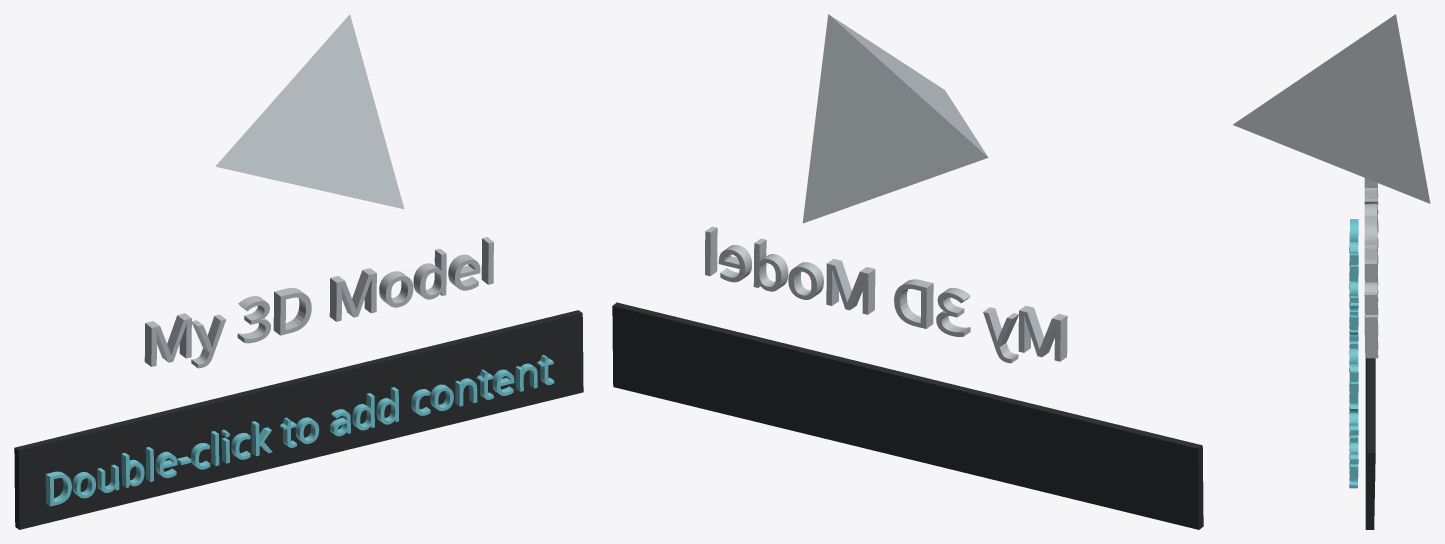
Rendered from DefaultHtml3DObject.obj.
3 renders of one model, left to right at view 1: azimuth 30°, elevation 25°; view 2: azimuth 150°, elevation 25°; view 3: azimuth 270°, elevation 25°, orthographic. The views are drawn at different scales.
Parts seen in each view (by area): view 1: group_2829873, group_12568524, group_7720667; view 2: group_2829873, group_12568524; view 3: group_12568524, group_7720667, group_2829873.
Part boxes in pixels (box(x1,y1,x2,y2)): group_2829873: box(14, 310, 583, 529); group_12568524: box(144, 14, 493, 368); group_7720667: box(45, 355, 554, 506); group_2829873: box(612, 302, 1203, 529); group_12568524: box(705, 14, 1067, 363); group_12568524: box(1233, 14, 1430, 358); group_7720667: box(1349, 219, 1358, 488); group_2829873: box(1365, 358, 1375, 529).
Bounding box in the file's own units: 75 × 53.42 × 23.29.
